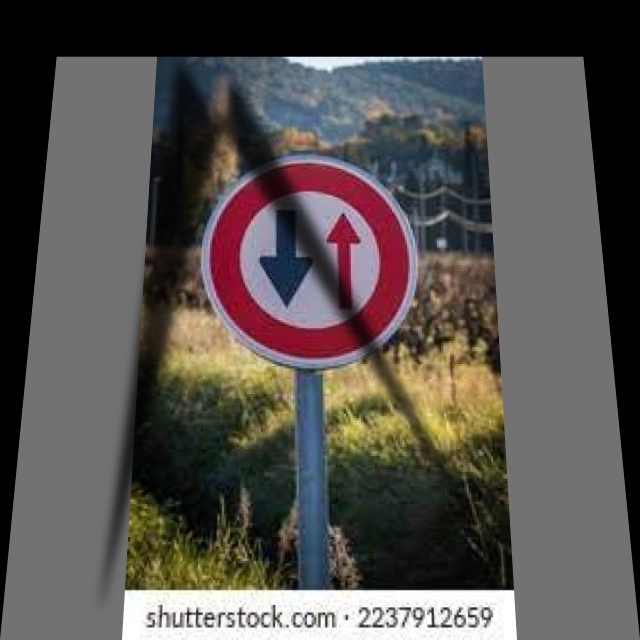Mandatory_Two_Way_Traffic: (198, 149, 436, 368)
